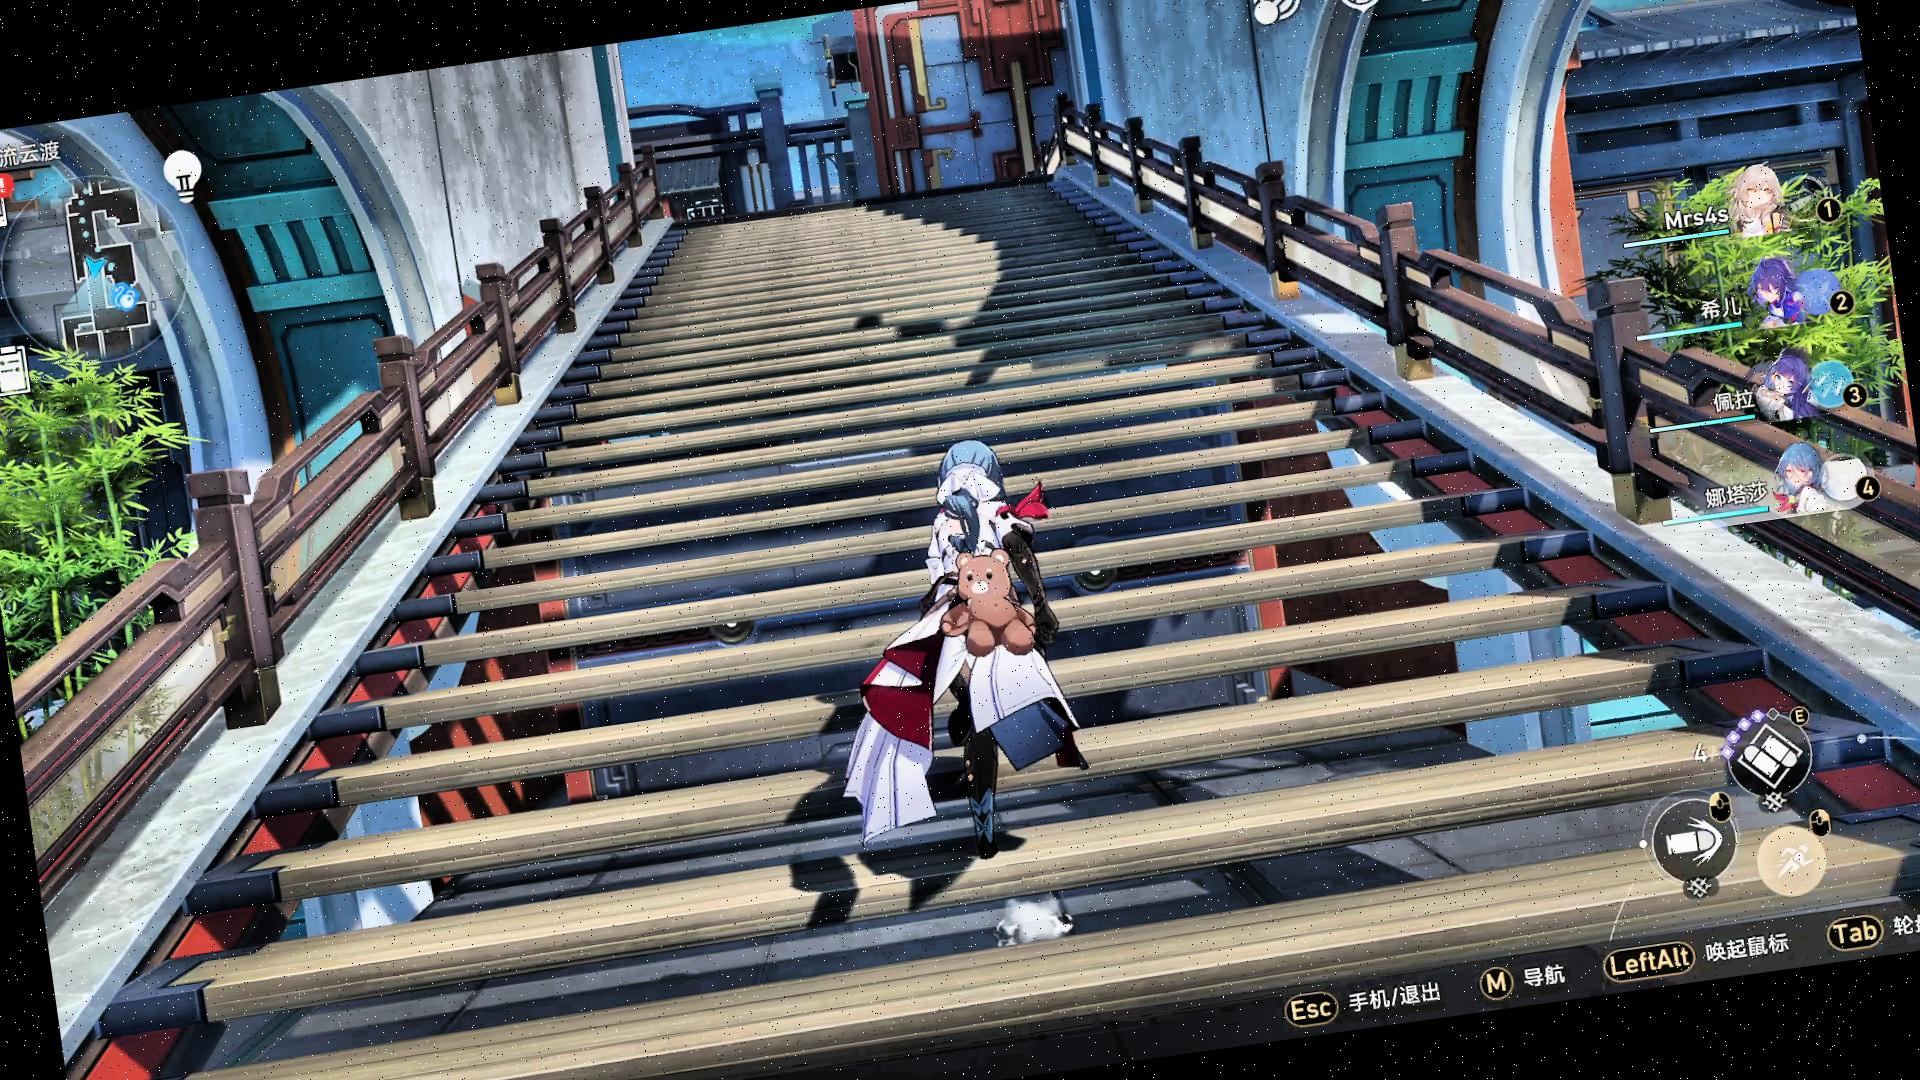Self: (796, 413, 1127, 895)
